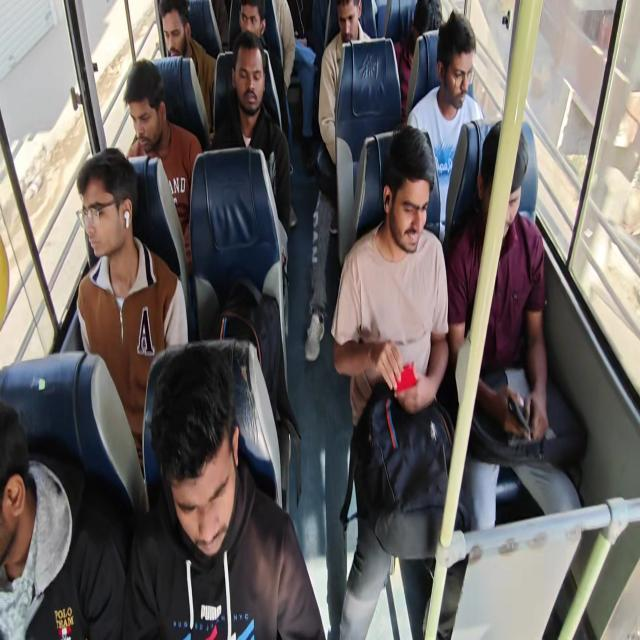person: (432, 119, 587, 637), (329, 124, 466, 638), (122, 341, 326, 639), (75, 146, 189, 479), (0, 401, 127, 639), (304, 0, 372, 362), (406, 10, 484, 245), (123, 58, 203, 276), (211, 30, 292, 234), (157, 0, 217, 134), (234, 0, 291, 134), (393, 0, 443, 121), (286, 0, 317, 173)
